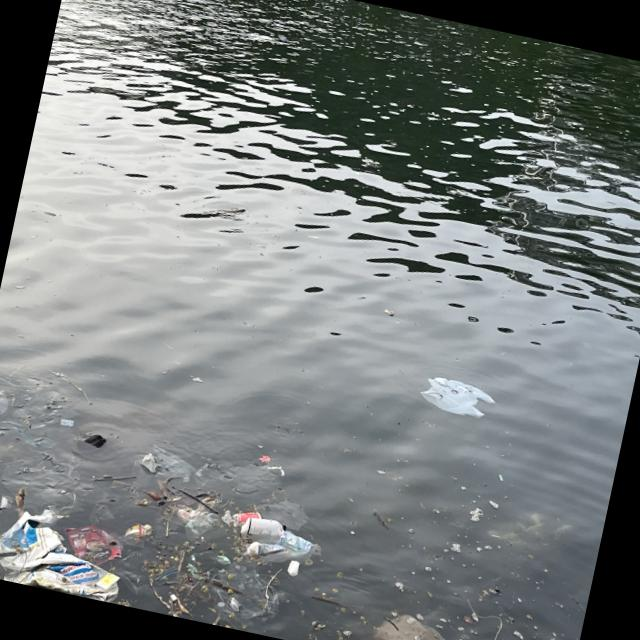foam: (287, 560, 302, 579)
plastic bag: (1, 508, 109, 600), (422, 373, 498, 418)
plastic bottle: (243, 516, 288, 542), (232, 508, 264, 533)
